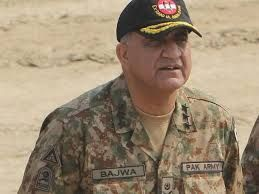uniform: (16, 78, 247, 190)
